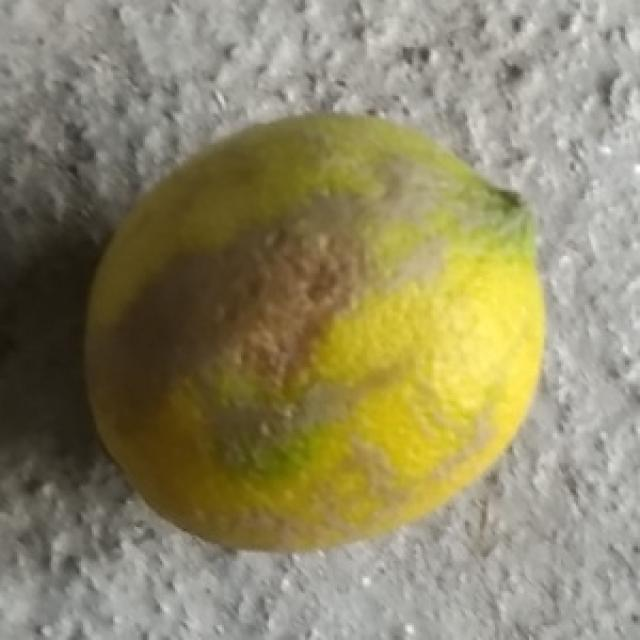overripe: (68, 107, 548, 560)
